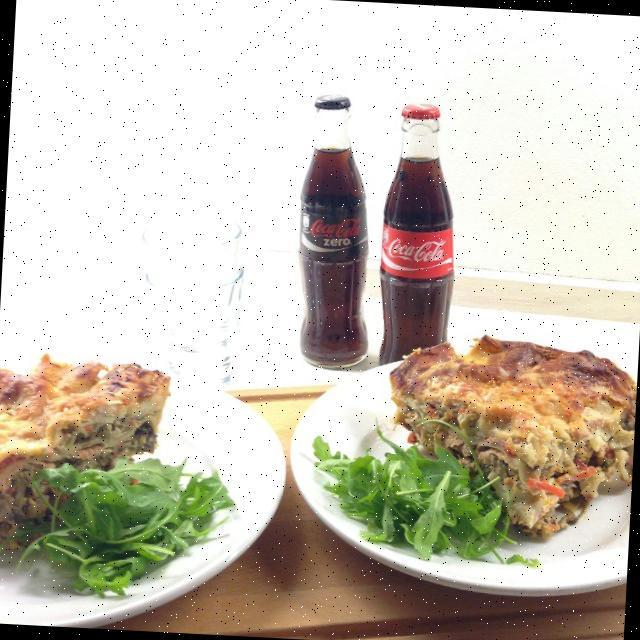coca-cola: (291, 85, 385, 371), (375, 102, 466, 372)
